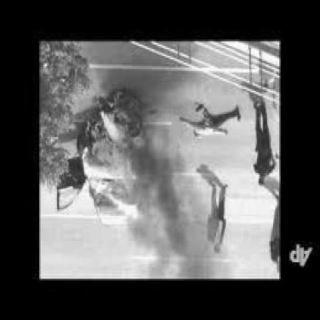Fire: (80, 94, 148, 186)
Smoke: (114, 126, 198, 269)
